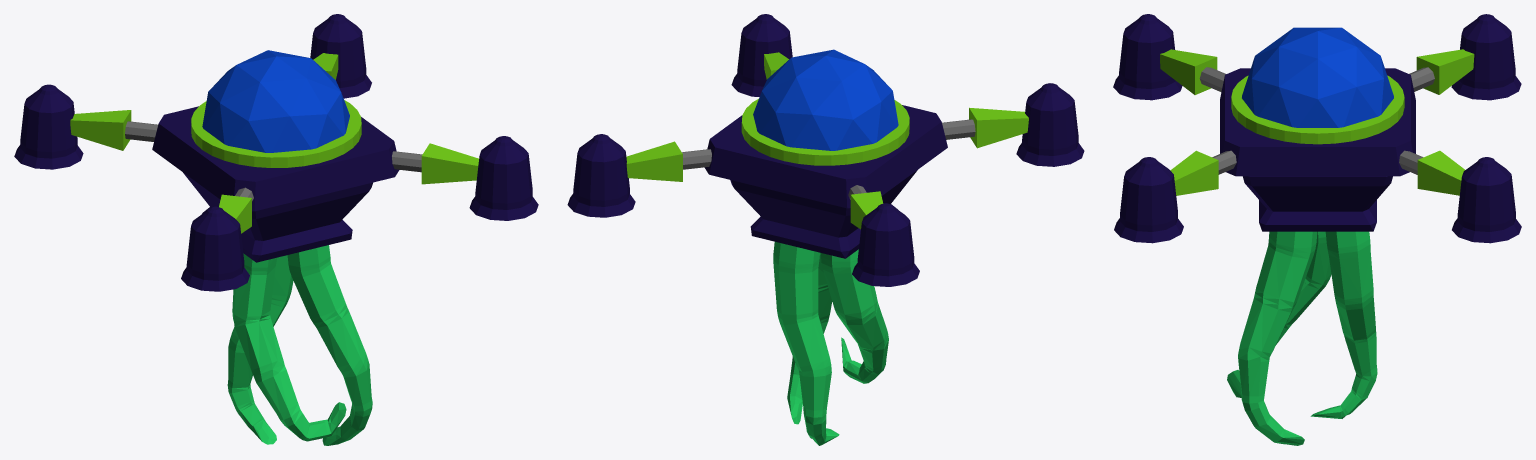
File: jellyfishBoss_26.obj
The picture shows the model from 3 angles, left to right: view 1: azimuth 30°, elevation 25°; view 2: azimuth 150°, elevation 25°; view 3: azimuth 270°, elevation 25°; orthographic projection. The views are drawn at different scales.
Visible parts, largest first — view 1: Base_Cube.001, Head_Icosphere, Cylinder.002_Cylinder.001, Cylinder.003_Cylinder.002, Rocket_2_Cylinder.014, Rocket_1_Cylinder.003, Rocket_3_Cylinder.016, Cylinder, Cylinder.001_Cylinder.012, Rocket_4_Cylinder.018, B_Arm_1_Cube.002, B_Arm_3_Cube.011 (+3 smaller); view 2: Base_Cube.001, Head_Icosphere, Cylinder.001_Cylinder.012, Cylinder.003_Cylinder.002, Rocket_3_Cylinder.016, Rocket_4_Cylinder.018, Rocket_2_Cylinder.014, Cylinder, Rocket_1_Cylinder.003, B_Arm_4_Cube.012, B_Arm_2_Cube.010, Cylinder.002_Cylinder.001 (+3 smaller); view 3: Base_Cube.001, Head_Icosphere, Cylinder.002_Cylinder.001, Cylinder.001_Cylinder.012, Rocket_4_Cylinder.018, Rocket_1_Cylinder.003, Rocket_3_Cylinder.016, Rocket_2_Cylinder.014, Cylinder, Cylinder.003_Cylinder.002, B_Arm_3_Cube.011, B_Arm_2_Cube.010 (+4 smaller).
Part boxes in pixels (x1,y1,x2,y2): Base_Cube.001: (152, 106, 399, 262); Head_Icosphere: (202, 50, 349, 152); Cylinder.002_Cylinder.001: (287, 245, 372, 445); Cylinder.003_Cylinder.002: (232, 253, 346, 441); Rocket_2_Cylinder.014: (181, 206, 249, 291); Rocket_1_Cylinder.003: (469, 136, 538, 220); Rocket_3_Cylinder.016: (14, 84, 83, 169); Cylinder: (191, 100, 361, 167); Cylinder.001_Cylinder.012: (227, 255, 293, 444); Rocket_4_Cylinder.018: (310, 14, 371, 98); B_Arm_1_Cube.002: (421, 143, 478, 184); B_Arm_3_Cube.011: (70, 110, 131, 150); Base_Cube.001: (704, 105, 947, 258); Head_Icosphere: (753, 49, 898, 150); Cylinder.001_Cylinder.012: (773, 241, 839, 445); Cylinder.003_Cylinder.002: (821, 249, 888, 383); Rocket_3_Cylinder.016: (852, 203, 919, 286); Rocket_4_Cylinder.018: (567, 134, 635, 217); Rocket_2_Cylinder.014: (1016, 83, 1084, 166); Cylinder: (741, 98, 909, 165); Rocket_1_Cylinder.003: (731, 14, 792, 96); B_Arm_4_Cube.012: (626, 141, 682, 181); B_Arm_2_Cube.010: (969, 107, 1028, 148); Cylinder.002_Cylinder.001: (787, 252, 832, 424); Base_Cube.001: (1220, 68, 1415, 231); Head_Icosphere: (1242, 27, 1393, 127); Cylinder.002_Cylinder.001: (1238, 231, 1317, 445); Cylinder.001_Cylinder.012: (1310, 231, 1377, 418); Rocket_4_Cylinder.018: (1452, 157, 1521, 243); Rocket_1_Cylinder.003: (1114, 157, 1183, 243); Rocket_3_Cylinder.016: (1451, 14, 1521, 100); Rocket_2_Cylinder.014: (1113, 14, 1182, 100); Cylinder: (1231, 75, 1404, 144); Cylinder.003_Cylinder.002: (1227, 231, 1331, 397); B_Arm_3_Cube.011: (1416, 49, 1474, 94); B_Arm_2_Cube.010: (1160, 49, 1217, 94).
Bounding box in the file's own units: 14.77 × 15.81 × 14.77.
